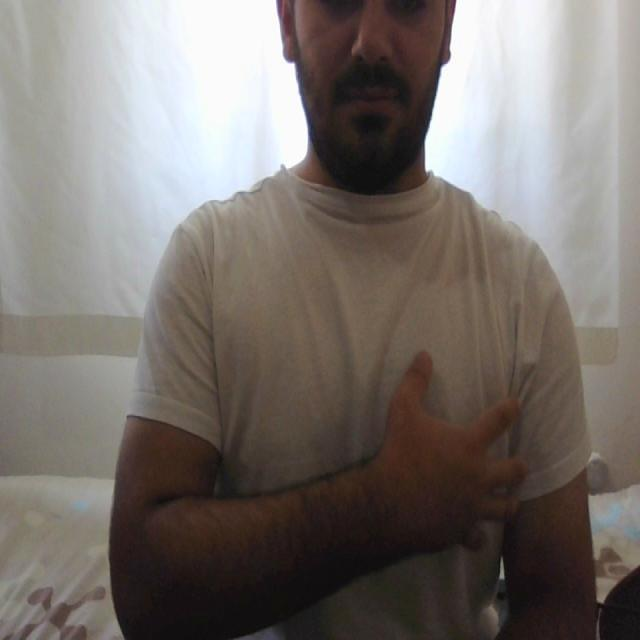Anne: (222, 334, 544, 582)
